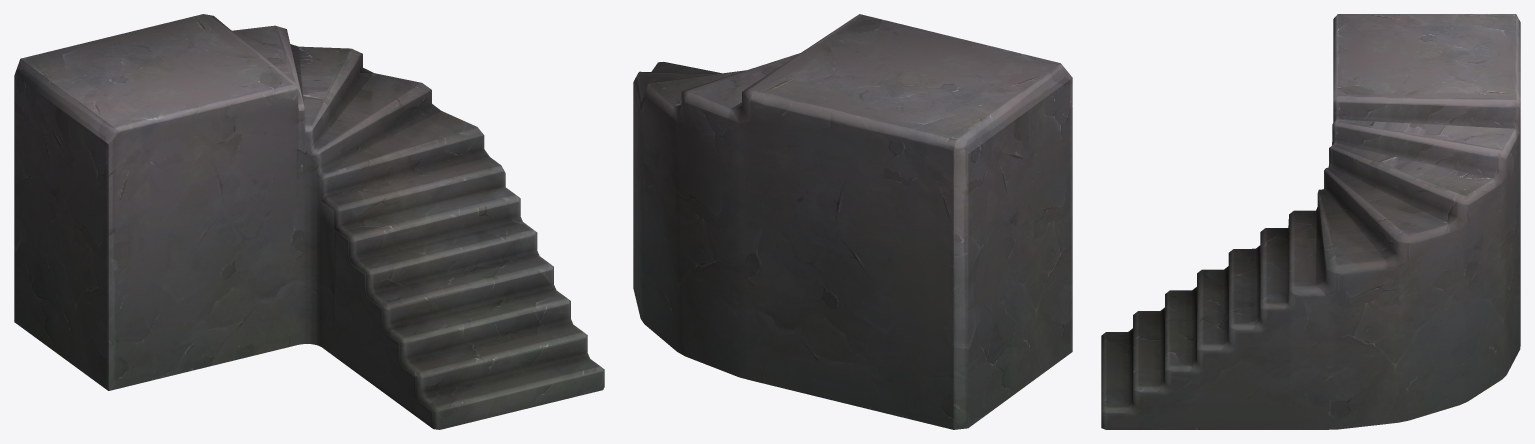
File: DE_House_Mod_Part_16.fbx
The picture shows the model from 3 angles, left to right: view 1: azimuth 30°, elevation 25°; view 2: azimuth 150°, elevation 25°; view 3: azimuth 270°, elevation 25°; orthographic projection. The views are drawn at different scales.
Visible parts, largest first — view 1: DE_House_Mod_Part_16; view 2: DE_House_Mod_Part_16; view 3: DE_House_Mod_Part_16.
Part boxes in pixels (bbox=[...]): DE_House_Mod_Part_16: bbox=[14, 14, 604, 429]; DE_House_Mod_Part_16: bbox=[633, 14, 1072, 429]; DE_House_Mod_Part_16: bbox=[1101, 14, 1520, 429].
Bounding box in the file's own units: 5.45 × 3.6 × 5.55.
